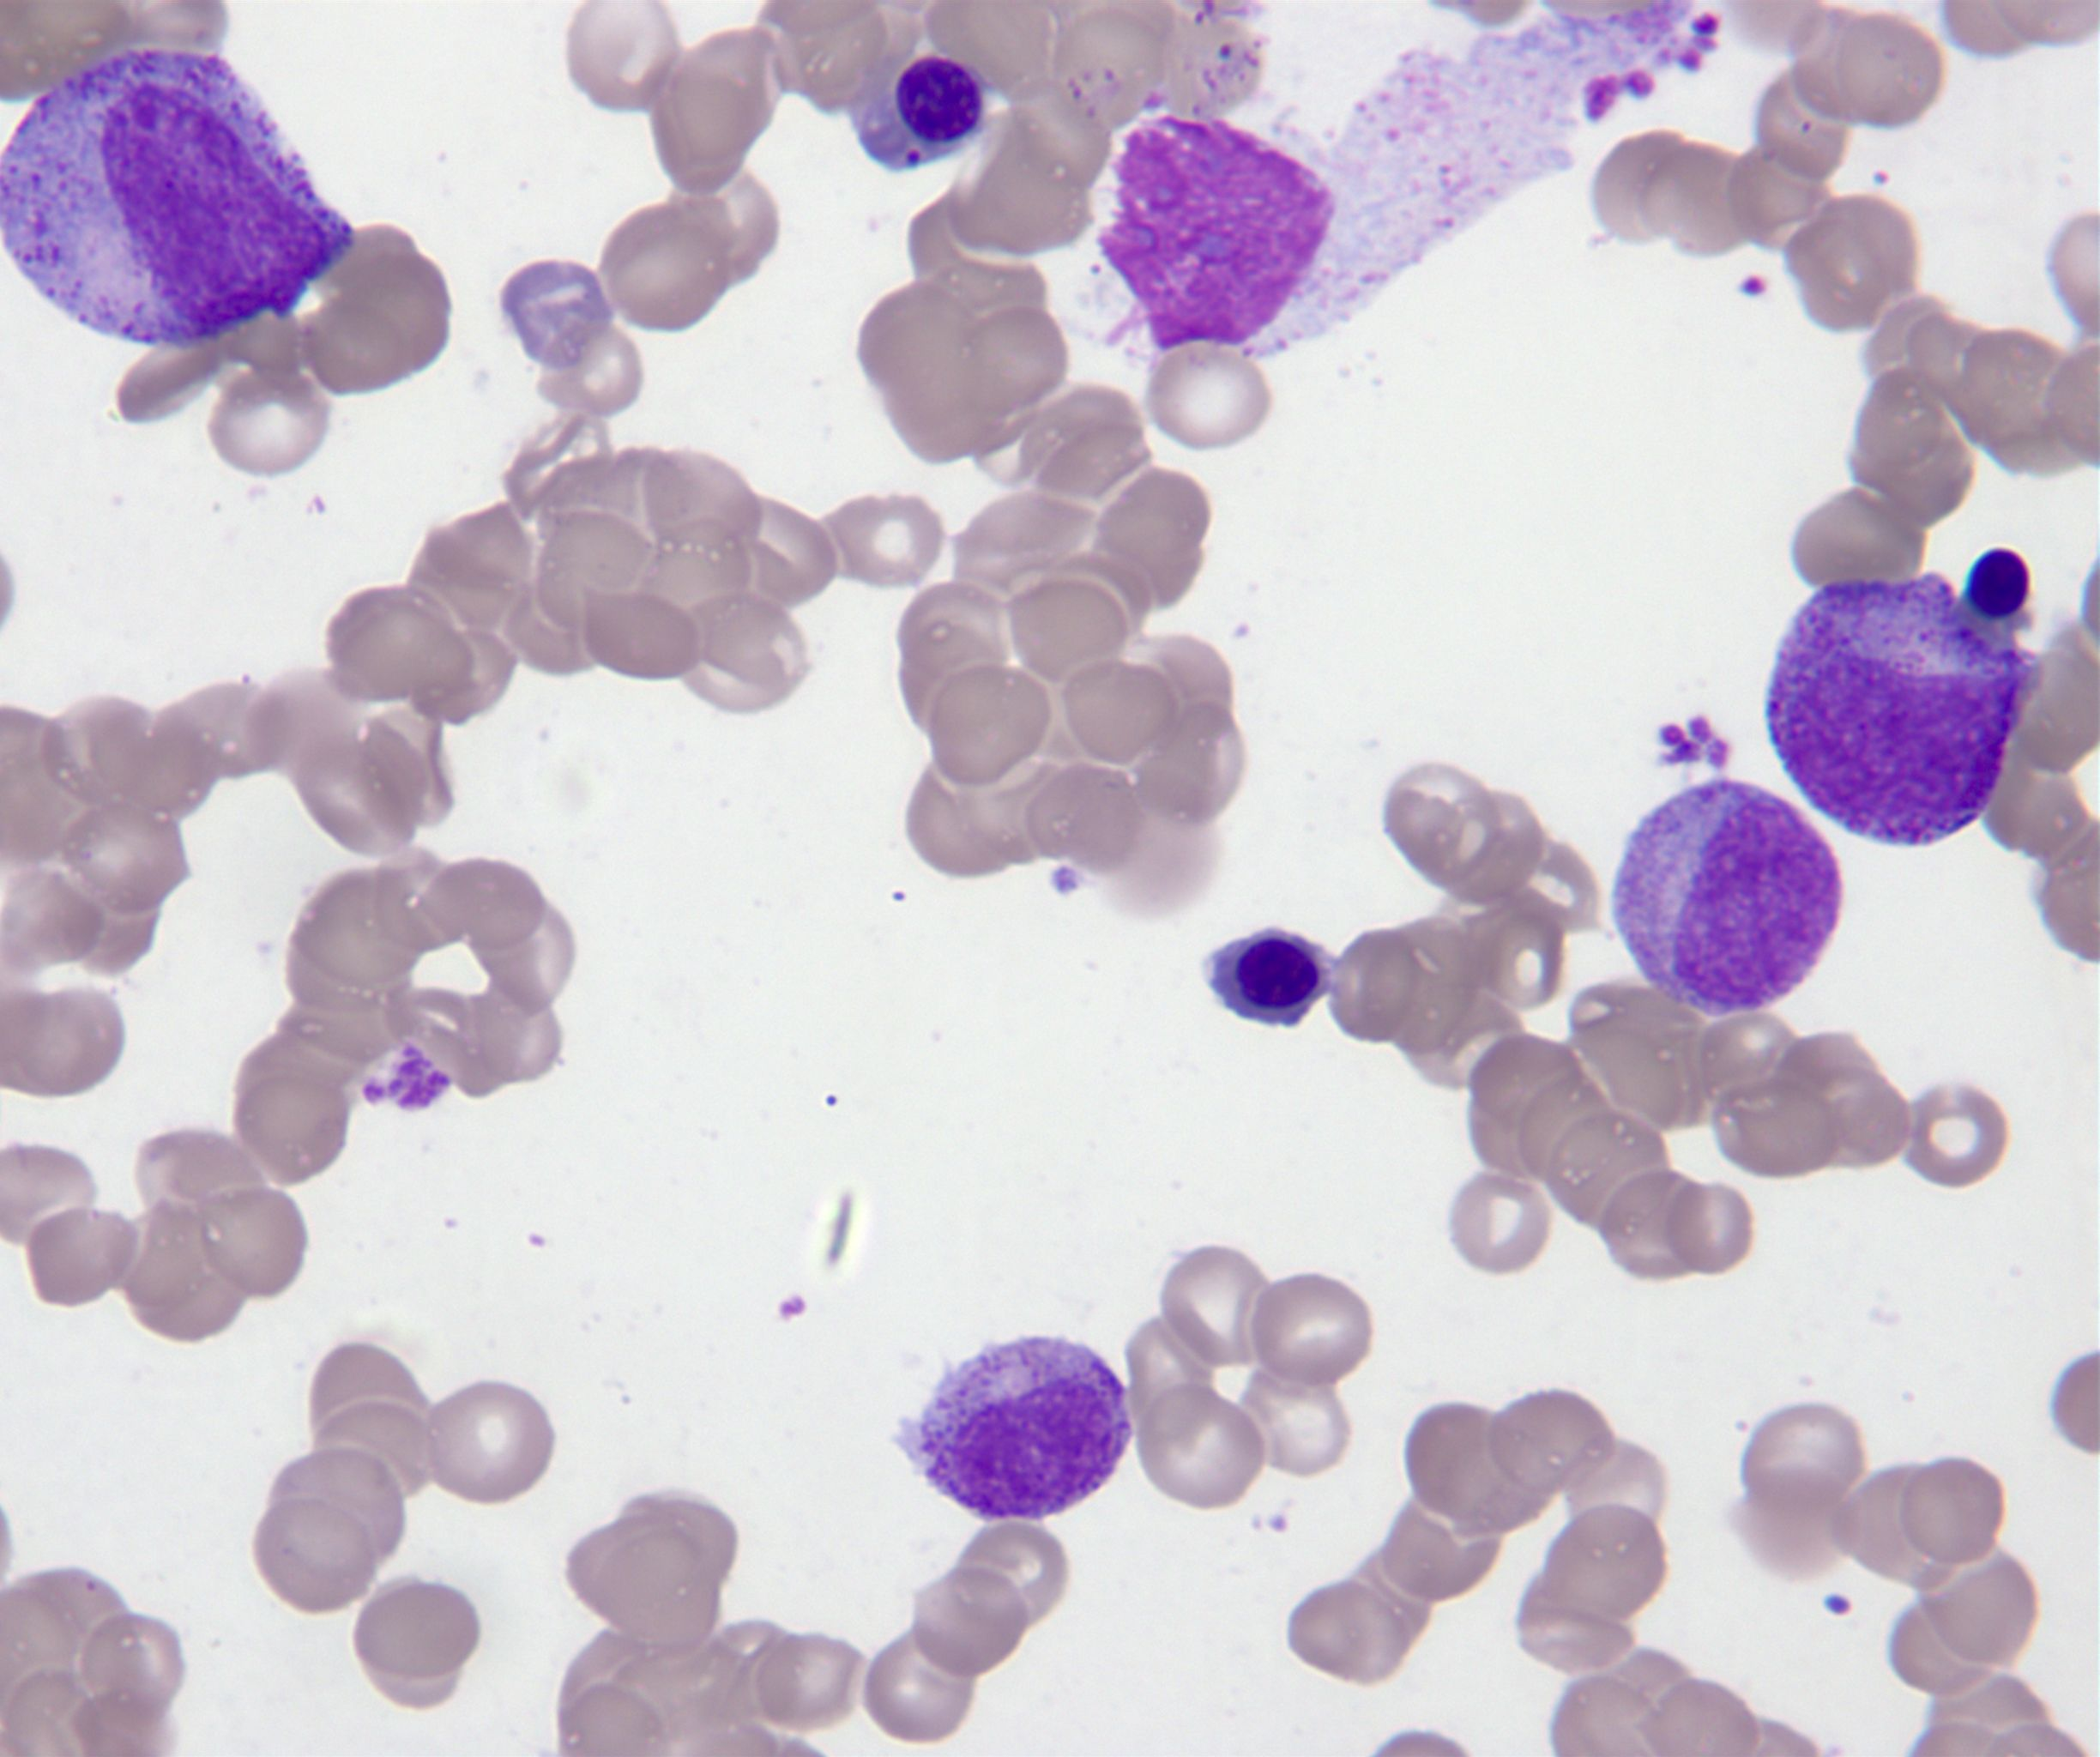24: (846, 51, 998, 174), (1200, 920, 1348, 1033), (1957, 541, 2048, 623)
3: (0, 47, 359, 358), (1758, 572, 2030, 853), (1608, 778, 1845, 1024), (891, 1331, 1139, 1530)
x: (1095, 103, 1350, 359)
